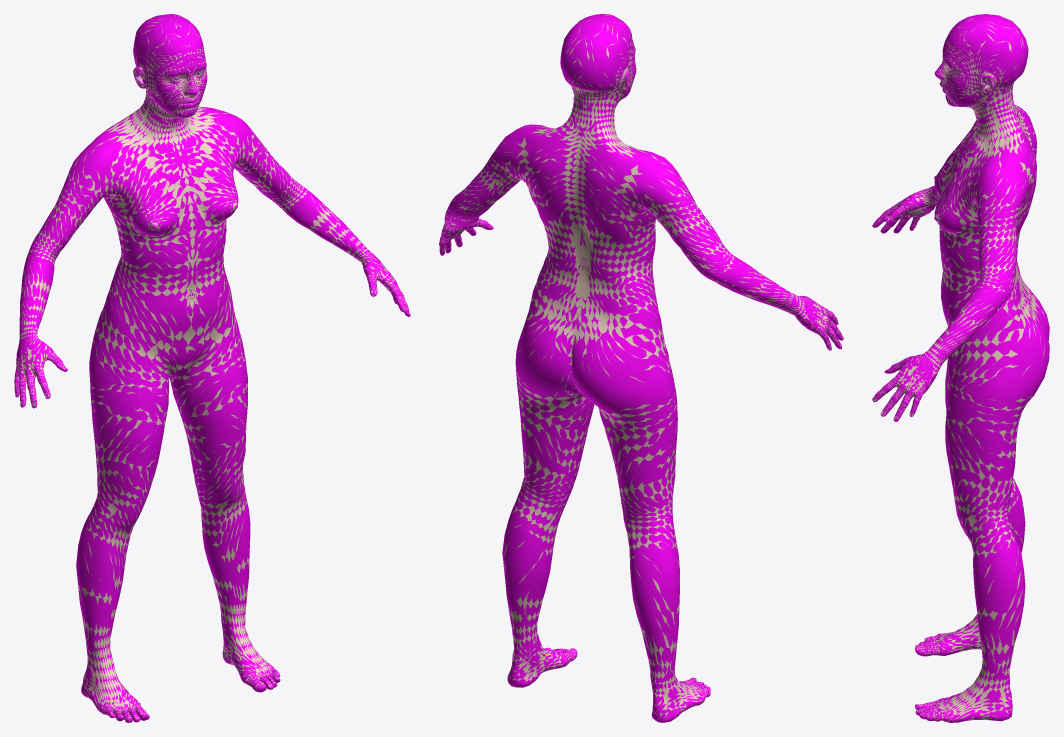
File: kobieta.glb
The picture shows the model from 3 angles, left to right: view 1: azimuth 30°, elevation 25°; view 2: azimuth 150°, elevation 25°; view 3: azimuth 270°, elevation 25°; orthographic projection. The views are drawn at different scales.
Visible parts, largest first — view 1: Kolizja, Ciało; view 2: Kolizja, Ciało; view 3: Kolizja, Ciało.
Boxes of the visible parts, <box> form: Kolizja: <box>14,14,410,722</box>; Ciało: <box>14,15,409,722</box>; Kolizja: <box>439,14,843,722</box>; Ciało: <box>439,14,843,722</box>; Kolizja: <box>872,14,1049,722</box>; Ciało: <box>872,14,1044,722</box>.
Size of the model in its own units: 0.9801 by 1.61 by 0.3876.
